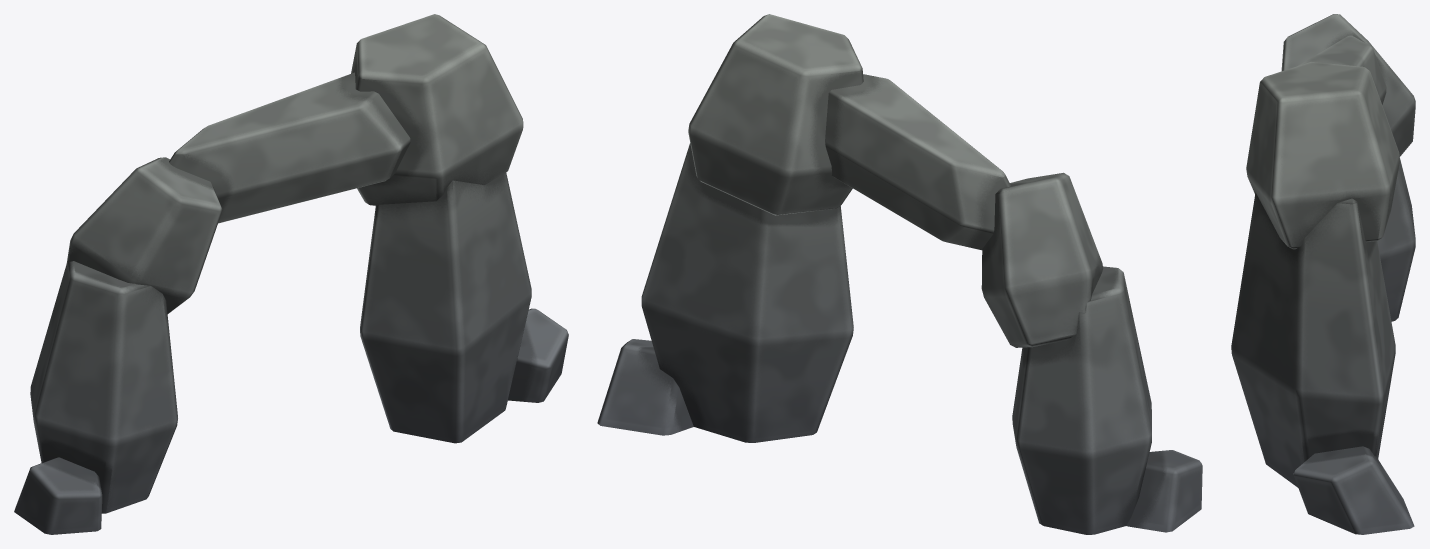
Rendered from arch_3.glb.
3 views of the same model, side by side, from view 1: azimuth 30°, elevation 25°; view 2: azimuth 150°, elevation 25°; view 3: azimuth 270°, elevation 25° (orthographic).
Parts seen in each view (by area): view 1: arch_3; view 2: arch_3; view 3: arch_3.
Boxes of the visible parts, x1,y1,x2,y2 form: arch_3: [14, 14, 568, 534]; arch_3: [597, 14, 1202, 534]; arch_3: [1231, 14, 1415, 534].
Bounding box in the file's own units: 5.8 × 3.9 × 1.7.
Materials: 1 (1 with a texture image).
